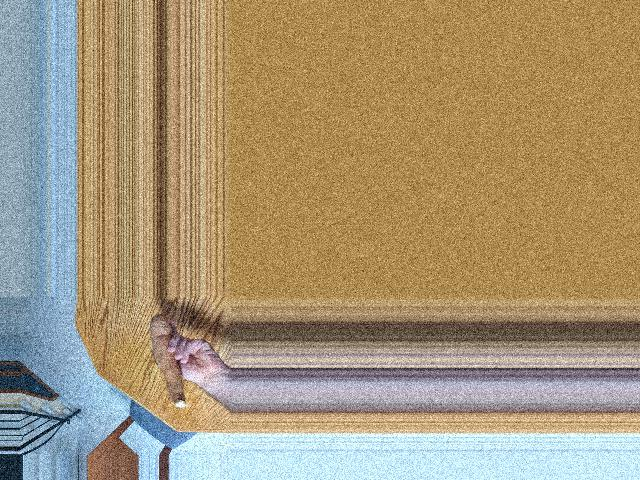sweet_potato: (144, 318, 188, 410)
